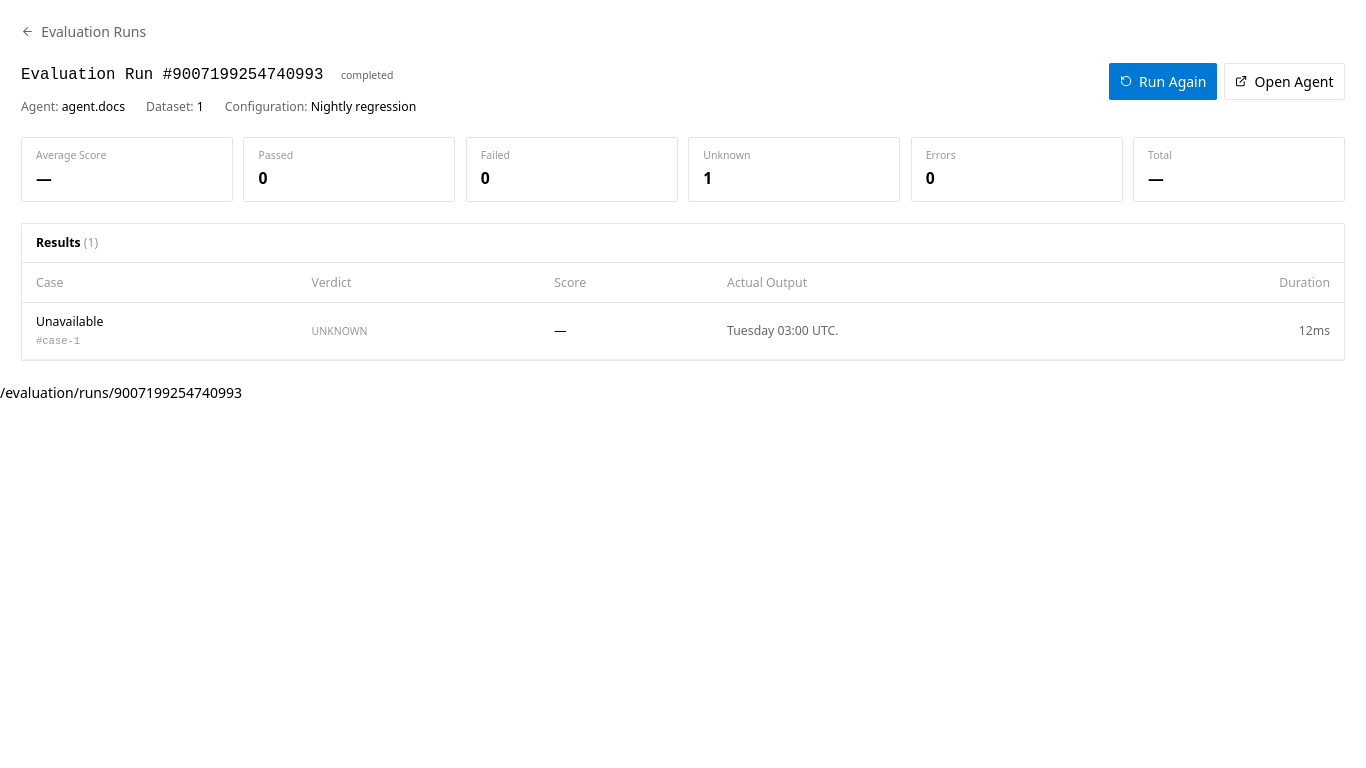
it: Evaluation retrieval evidence surface › says evidence is unavailable when the candidate trace could not be read
The width and height of the screenshot is (1366, 768).
Step 1. Click the text "Tuesday 03:00 UTC." → (783, 330), box 713,302 -> 1116,359
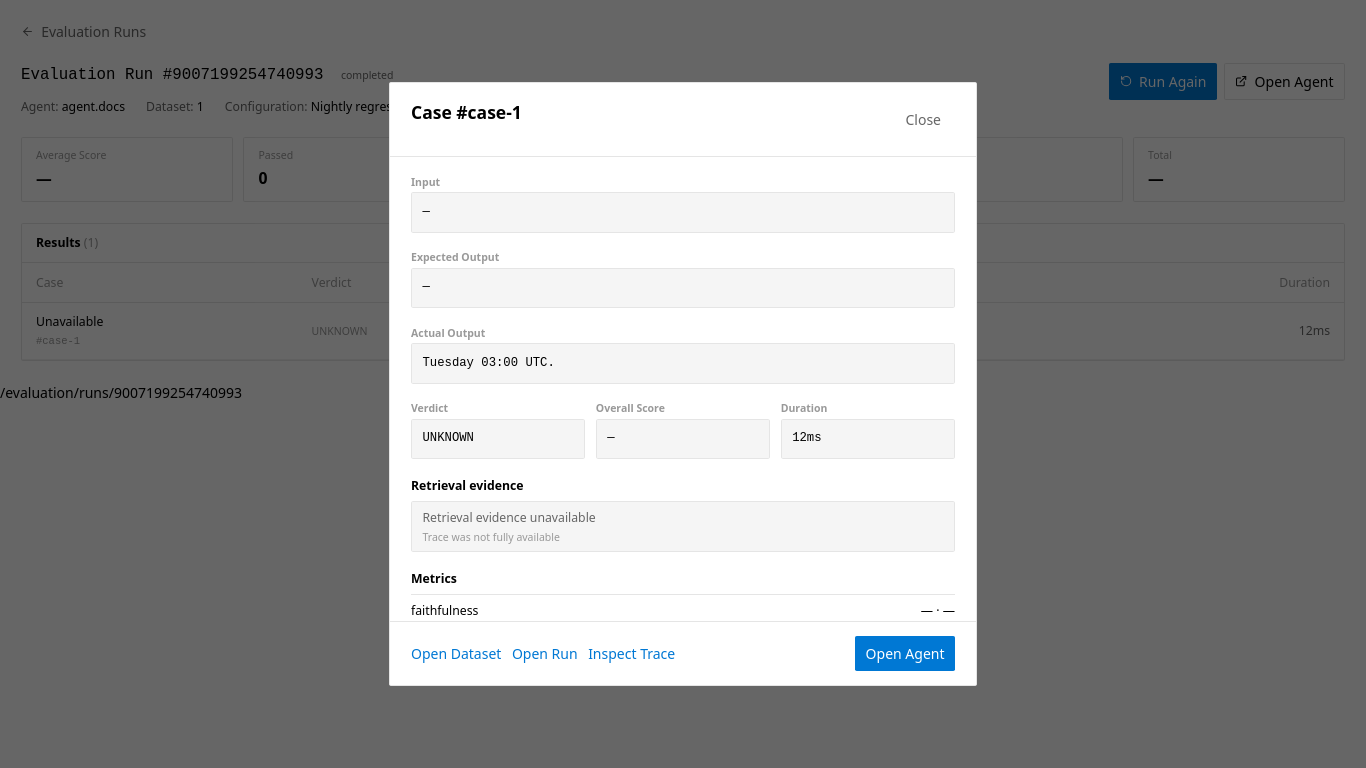
Expected: the text "Retrieval evidence unavailable" is shown, 422,509 -> 596,526
